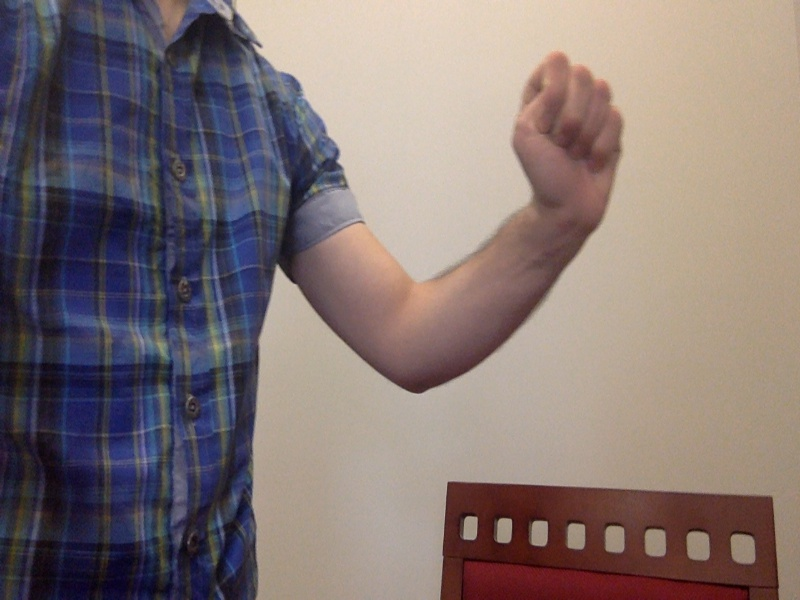0-hand: (513, 46, 627, 215)
